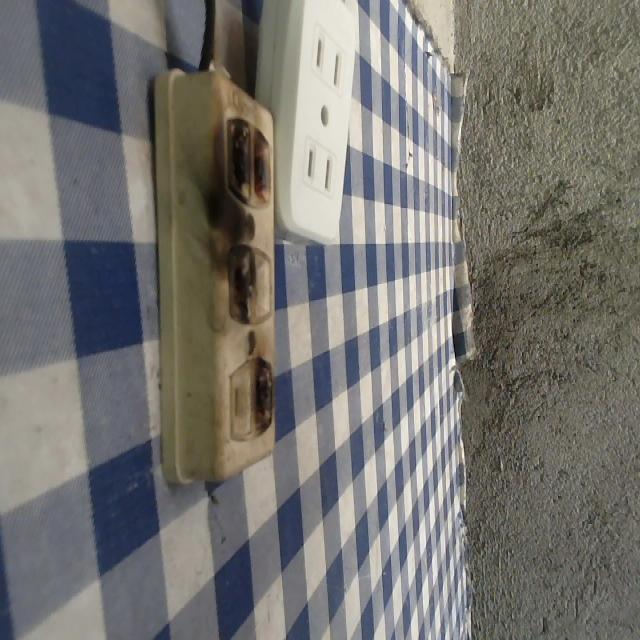-: (220, 110, 275, 214), (217, 236, 263, 332), (250, 352, 281, 443)
